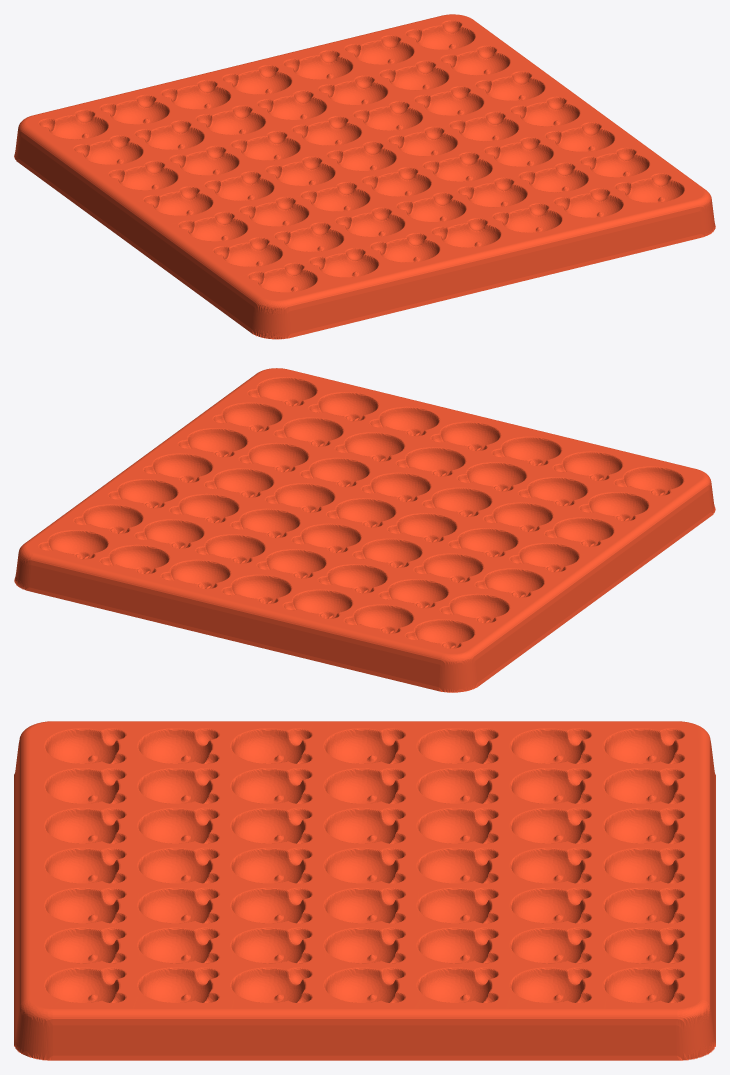
Rendered from mold.glb.
3 views of the same model, one above another, from view 1: azimuth 30°, elevation 25°; view 2: azimuth 150°, elevation 25°; view 3: azimuth 270°, elevation 25° (orthographic). The views are drawn at different scales.
Parts seen in each view (by area): view 1: geometry_0; view 2: geometry_0; view 3: geometry_0.
Part boxes in pixels (x1=…): geometry_0: x1=14, y1=14, x2=715, y2=339; geometry_0: x1=14, y1=368, x2=715, y2=692; geometry_0: x1=14, y1=721, x2=715, y2=1060.
Size of the model in its own units: 0.1619 by 0.0113 by 0.16.
